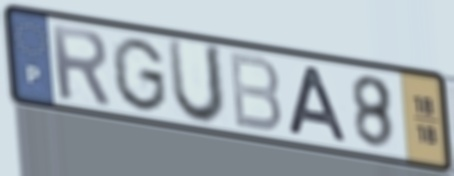8: (349, 73, 399, 151)
A: (284, 63, 350, 145)
B: (226, 49, 285, 136)
G: (109, 34, 170, 115)
R: (47, 20, 114, 108)
U: (164, 35, 228, 129)
